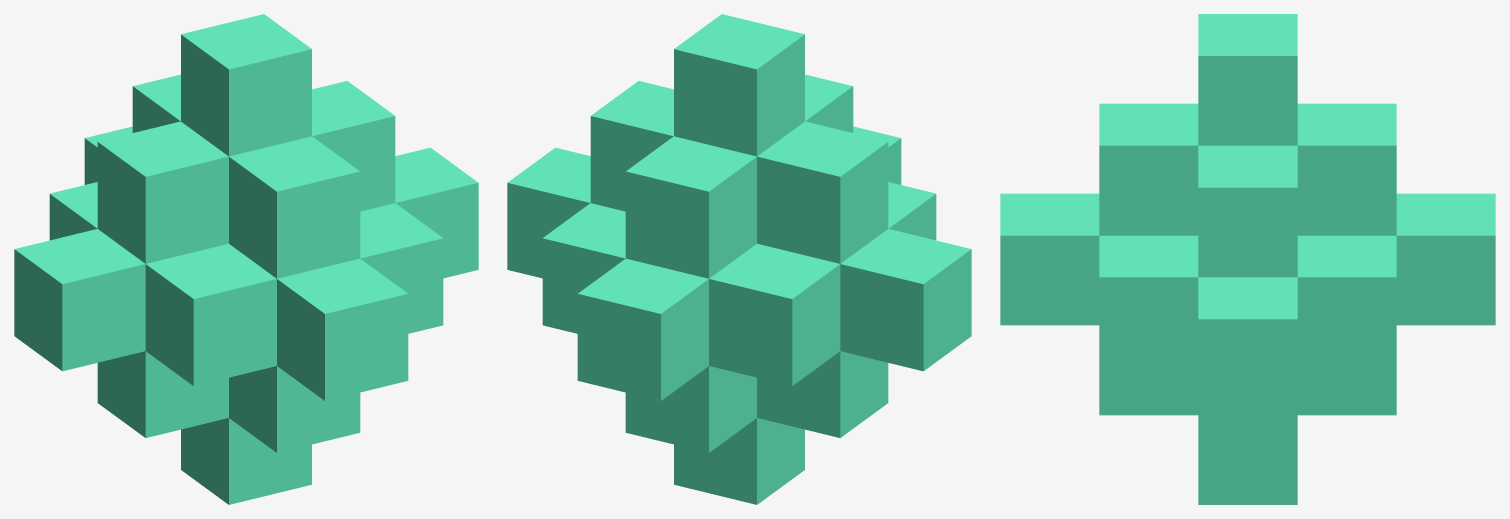
File: element-very big.obj
3 renders of one model, left to right at view 1: azimuth 30°, elevation 25°; view 2: azimuth 150°, elevation 25°; view 3: azimuth 270°, elevation 25°, orthographic. The views are drawn at different scales.
Size of the model in its own units: 2 by 2 by 2.
1 material, 1 textured.
